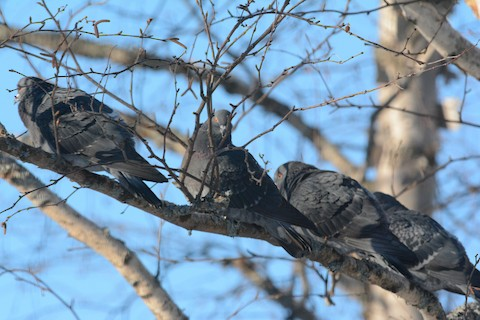pigeon: (11, 74, 167, 211), (172, 100, 318, 244), (268, 156, 420, 289), (352, 185, 478, 305)
